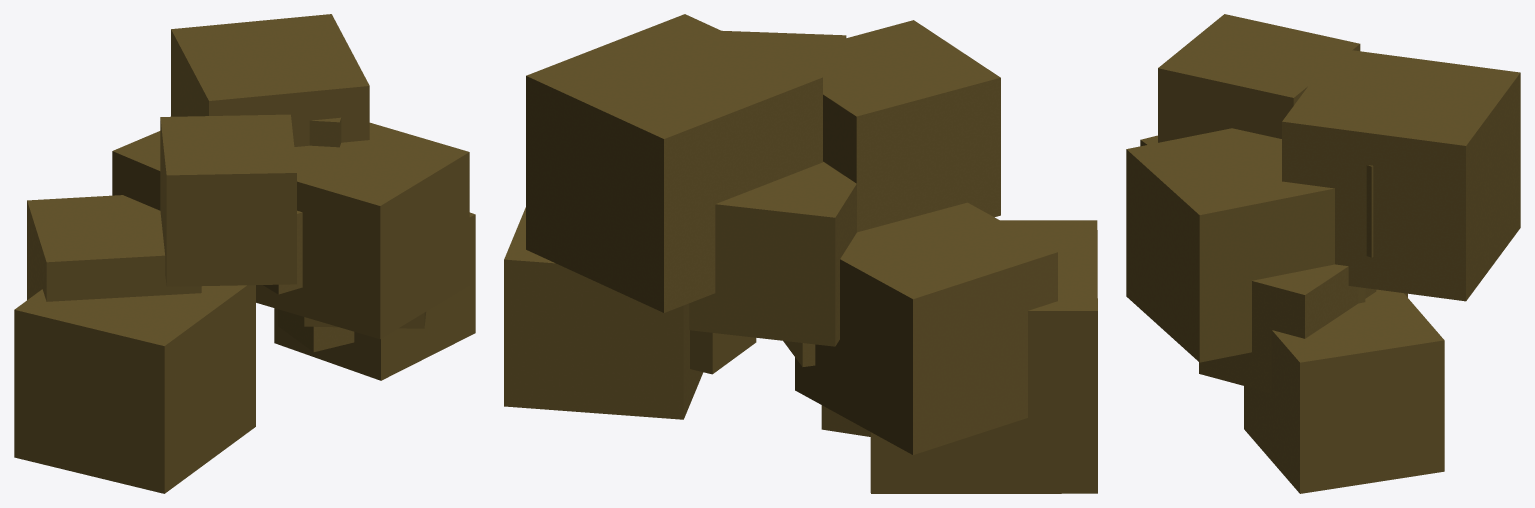
Rendered from bubbles.glb.
3 renders of one model, left to right at view 1: azimuth 30°, elevation 25°; view 2: azimuth 150°, elevation 25°; view 3: azimuth 270°, elevation 25°, orthographic. The views are drawn at different scales.
Parts seen in each view (by area): view 1: Gold Bubbles dimensional effect.001; view 2: Gold Bubbles dimensional effect.001; view 3: Gold Bubbles dimensional effect.001.
Part boxes in pixels (x1=…): Gold Bubbles dimensional effect.001: x1=14, y1=14, x2=475, y2=493; Gold Bubbles dimensional effect.001: x1=504, y1=14, x2=1097, y2=493; Gold Bubbles dimensional effect.001: x1=1126, y1=14, x2=1520, y2=493.
Size of the model in its own units: 1.9 by 1.17 by 1.28.
Materials: 1 (1 with a texture image).
